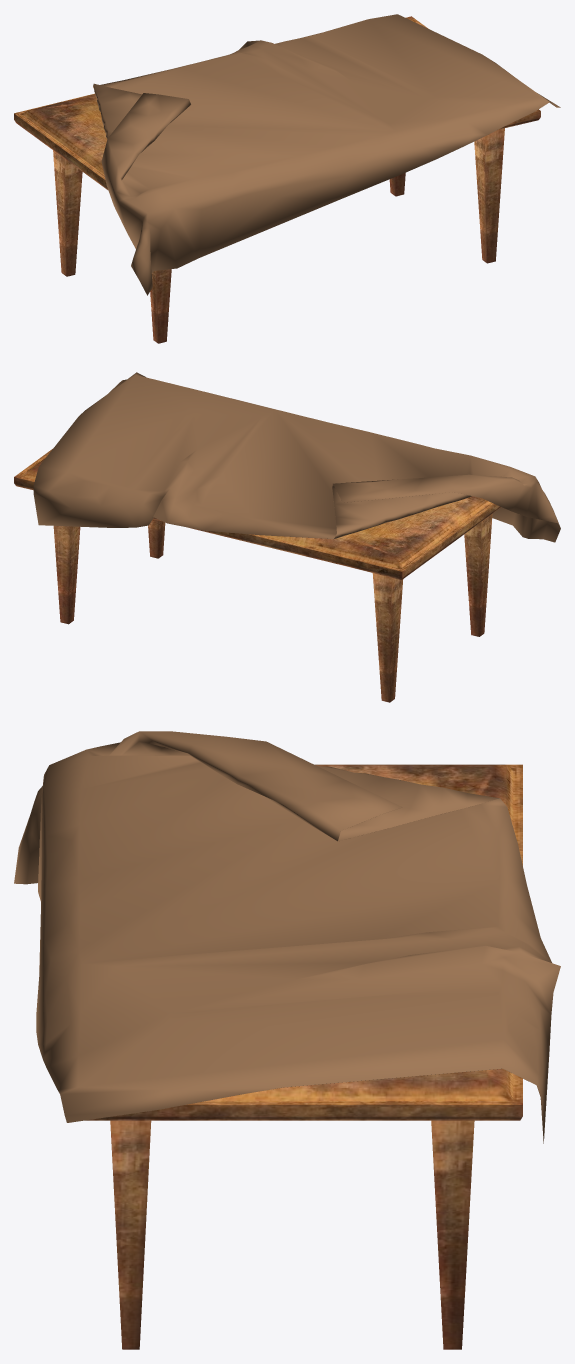
File: dining_table.fbx
3 views of the same model, one above another, from view 1: azimuth 30°, elevation 25°; view 2: azimuth 150°, elevation 25°; view 3: azimuth 270°, elevation 25° (orthographic). The views are drawn at different scales.
Visible parts, largest first — view 1: dining_table_LOD0; view 2: dining_table_LOD0; view 3: dining_table_LOD0.
Boxes of the visible parts, left/top/right/bottom form: dining_table_LOD0: left=14, top=14, right=560, bottom=343; dining_table_LOD0: left=14, top=372, right=560, bottom=702; dining_table_LOD0: left=14, top=731, right=560, bottom=1349.
Size of what is drawn, in the model's own units: 226 by 87.7 by 139.
1 material, 1 textured.
